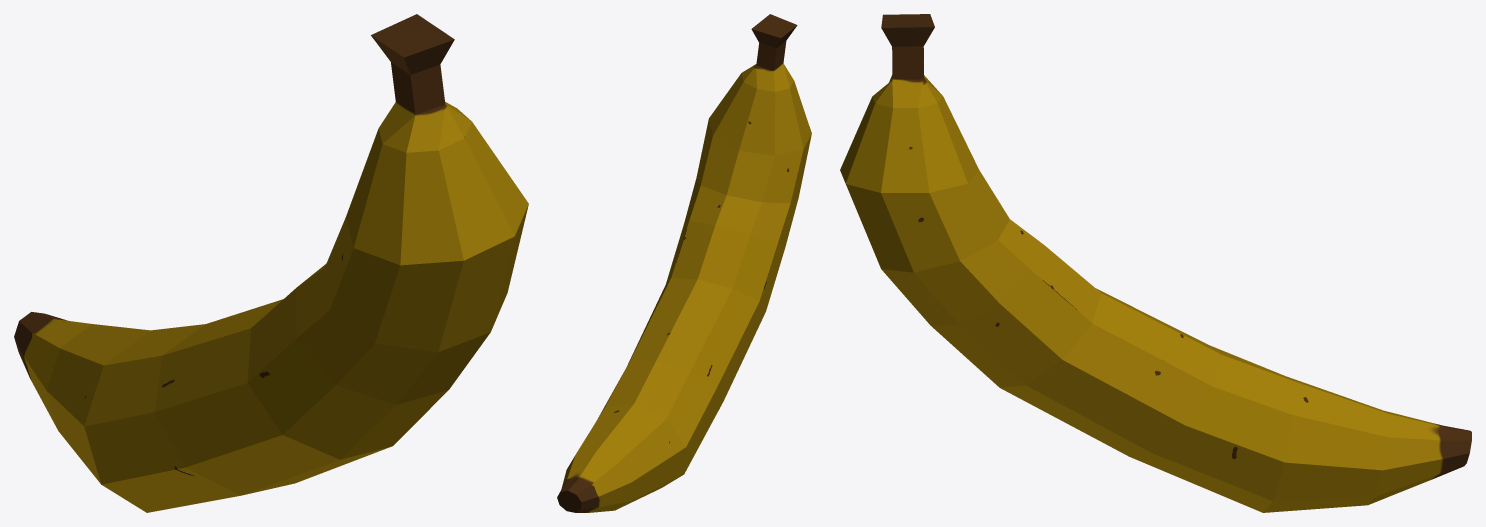
The model's file is banana.glb.
The picture shows the model from 3 angles, left to right: view 1: azimuth 30°, elevation 25°; view 2: azimuth 150°, elevation 25°; view 3: azimuth 270°, elevation 25°; orthographic projection. The views are drawn at different scales.
Parts seen in each view (by area): view 1: Cylinder; view 2: Cylinder; view 3: Cylinder.
Boxes of the visible parts, left/top/right/bottom form: Cylinder: left=14, top=14, right=528, bottom=512; Cylinder: left=557, top=14, right=811, bottom=512; Cylinder: left=840, top=14, right=1471, bottom=512.
Size of the model in its own units: 2.26 by 7.34 by 8.65.
Materials: 1 (1 with a texture image).
